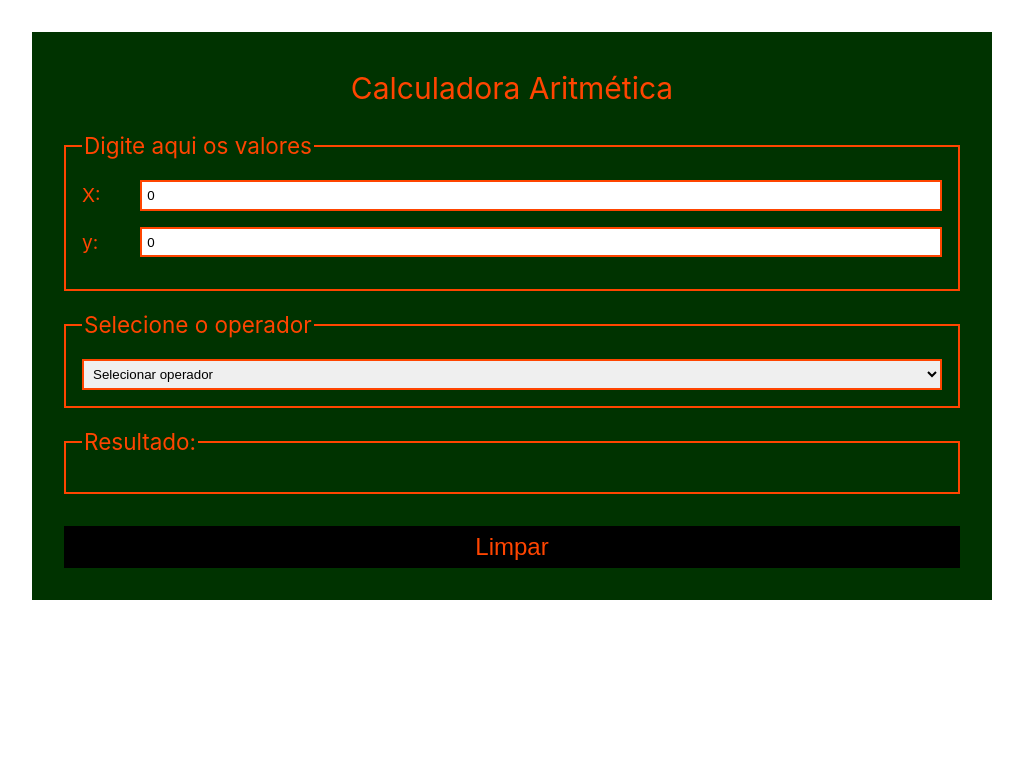
Test case: Calculadora - operações básicas › o botão Limpar zera os campos e o resultado
Replace the text in the number field with id "number-x" with "8" at (541, 195), box x1=140 y1=180 x2=942 y2=211
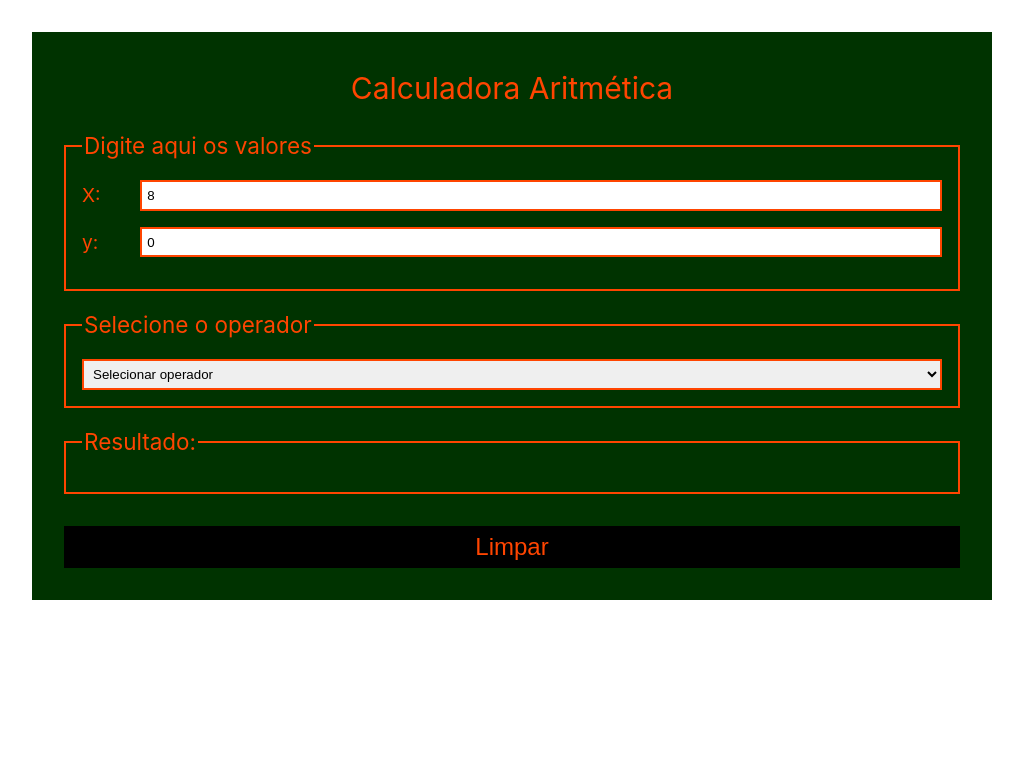
Replace the text in the number field with id "number-y" with "2" at (541, 242), box x1=140 y1=227 x2=942 y2=257
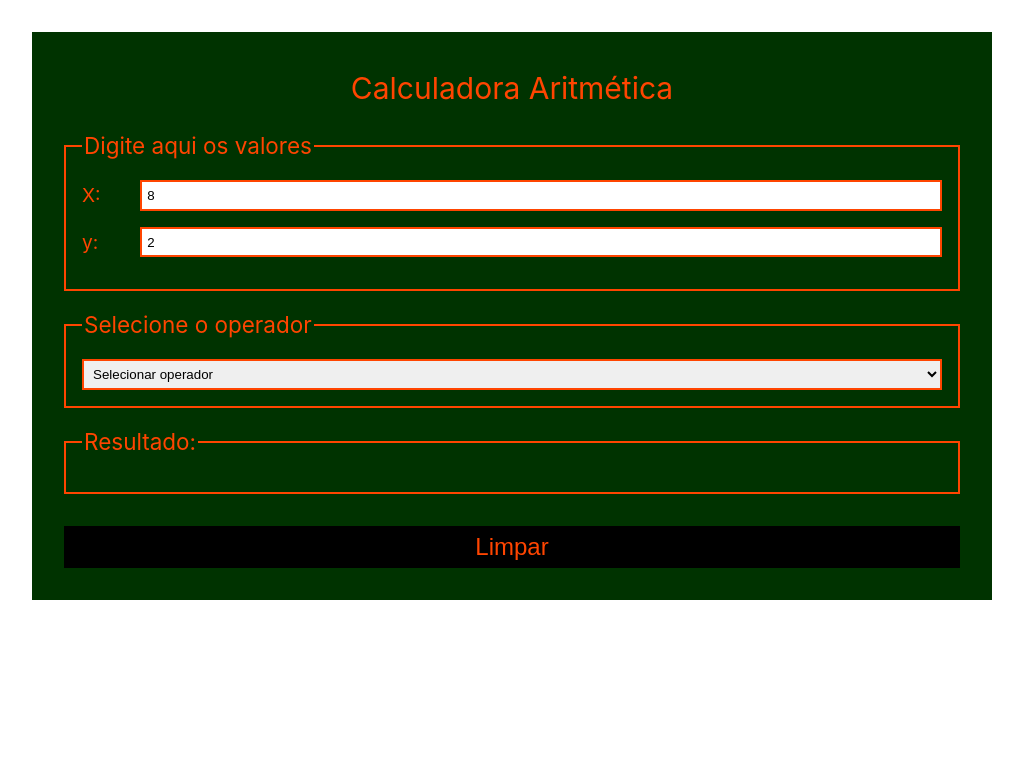
Select "Soma" in the dropdown at (512, 375), box x1=82 y1=359 x2=942 y2=390
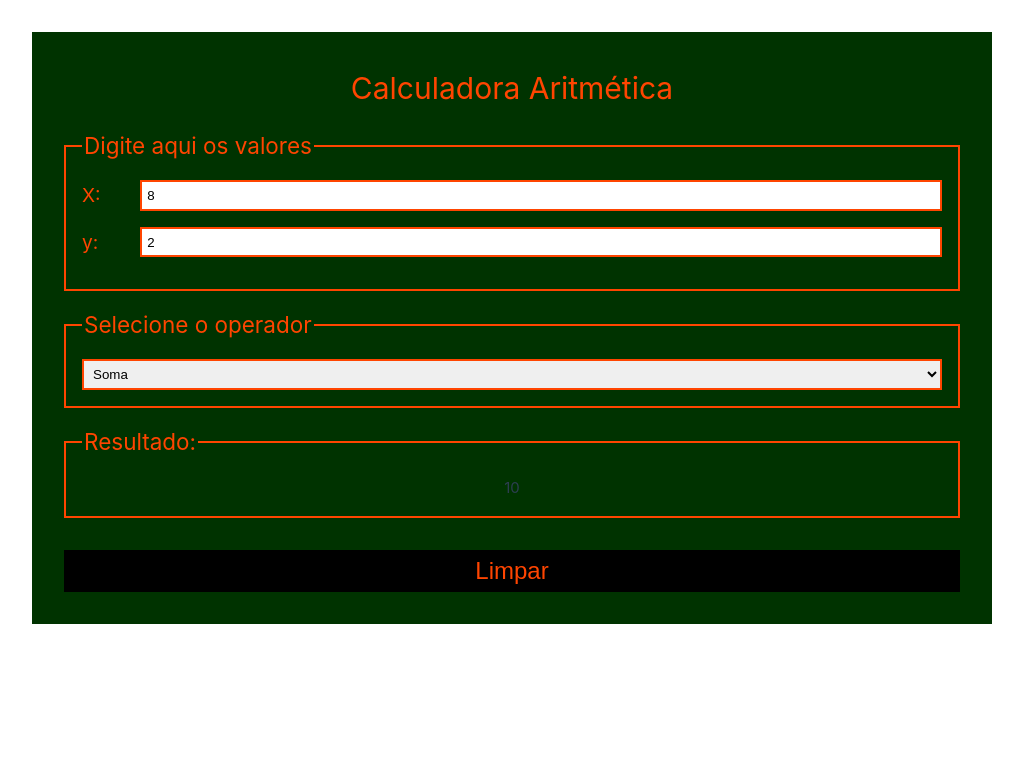
Click the button "Limpar" at (512, 571), box x1=64 y1=550 x2=960 y2=592
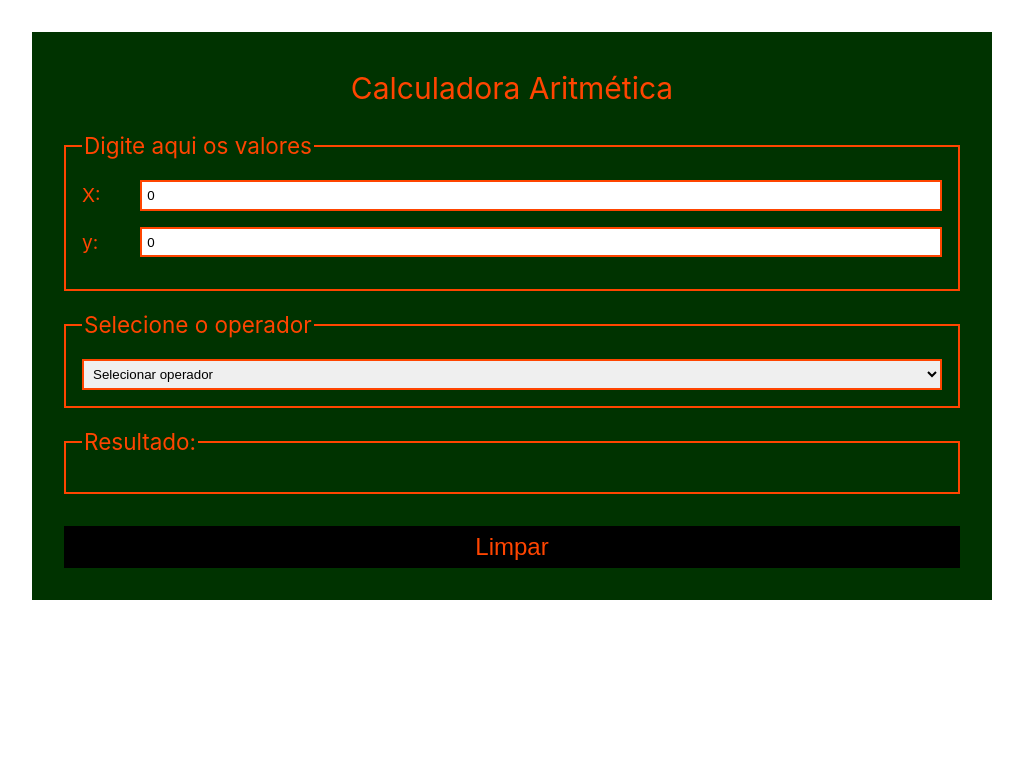
Now the number field with id "number-x" holds "0", box x1=140 y1=180 x2=942 y2=211
Now the number field with id "number-y" holds "0", box x1=140 y1=227 x2=942 y2=257
